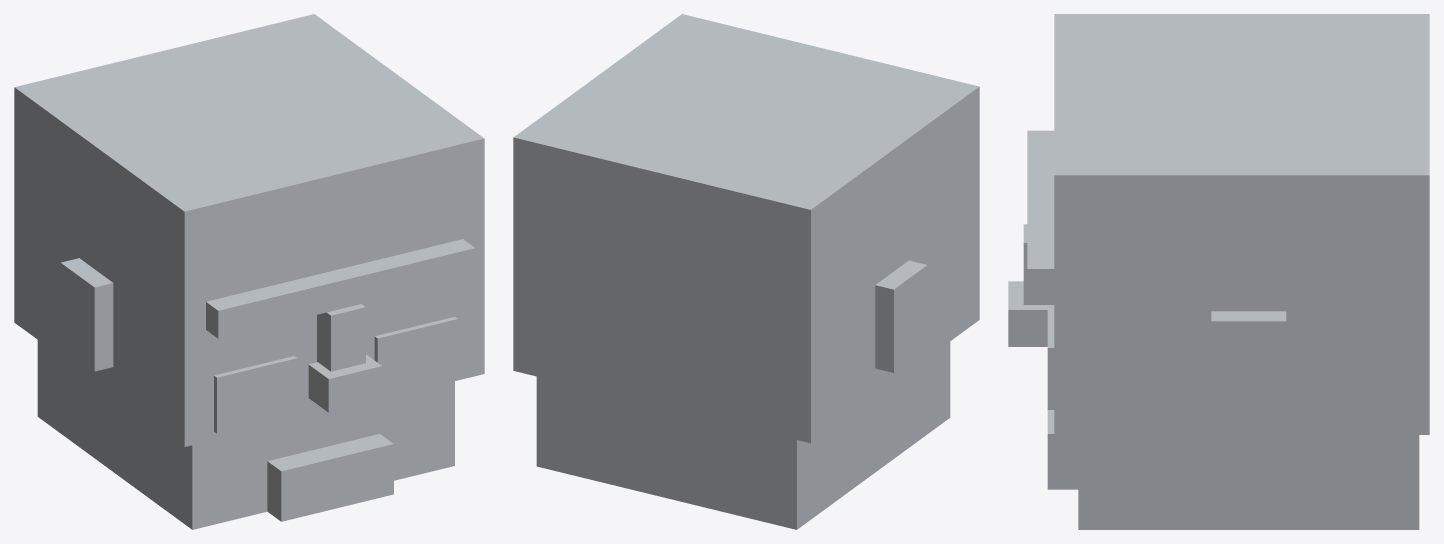
The model's file is npc_crew_head.fbx.
3 views of the same model, side by side, from view 1: azimuth 30°, elevation 25°; view 2: azimuth 150°, elevation 25°; view 3: azimuth 270°, elevation 25° (orthographic). The views are drawn at different scales.
Parts seen in each view (by area): view 1: npc_crew_head; view 2: npc_crew_head; view 3: npc_crew_head.
Boxes of the visible parts, x1,y1,x2,y2 form: npc_crew_head: (14, 14, 484, 529); npc_crew_head: (513, 14, 979, 529); npc_crew_head: (1008, 14, 1429, 529).
Size of the model in its own units: 126 by 118 by 124.
